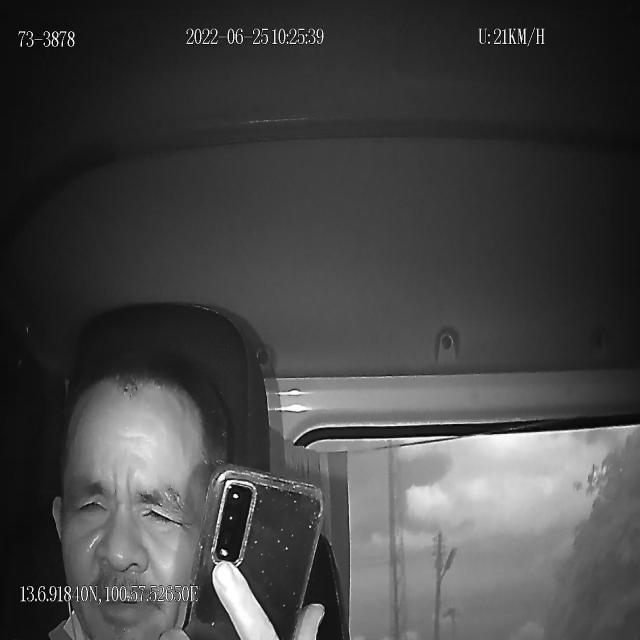phone: (182, 468, 326, 640)
